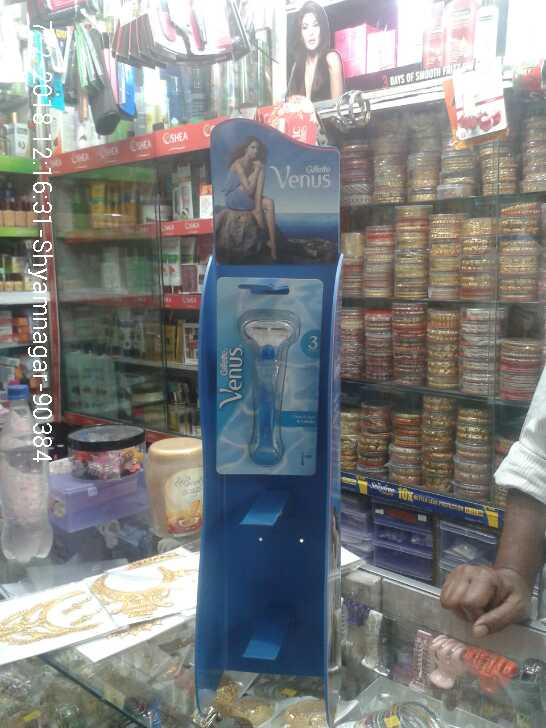venus: (211, 272, 322, 481)
